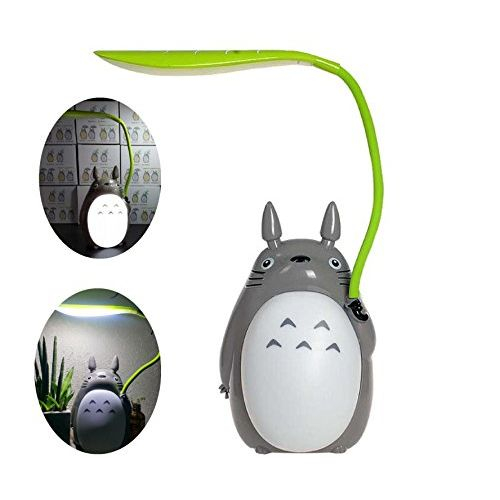Totoro: (217, 202, 379, 458), (68, 354, 135, 452), (82, 164, 131, 255)
